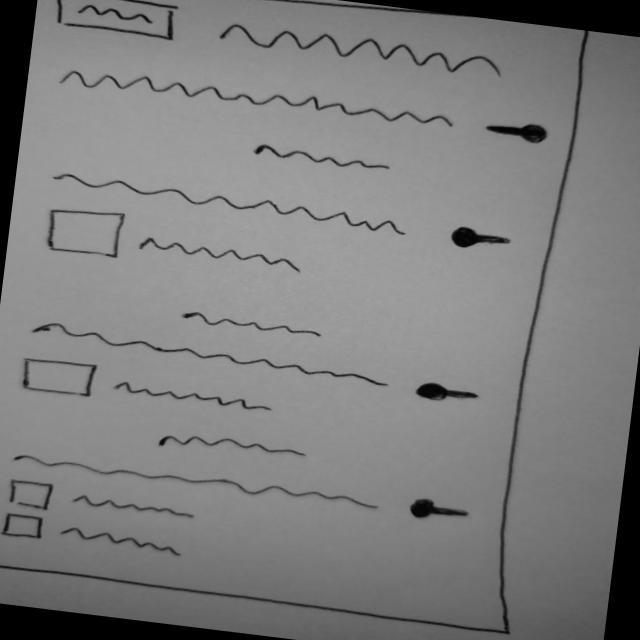checkbox: (42, 201, 313, 284), (21, 354, 280, 425), (3, 477, 202, 531), (1, 509, 196, 563)
input: (39, 1, 190, 48)
text: (56, 63, 461, 137), (32, 315, 401, 395), (55, 166, 416, 242), (9, 448, 386, 515), (216, 16, 517, 88), (245, 139, 407, 181), (153, 427, 313, 469), (175, 306, 332, 346)
toggle: (444, 221, 522, 259), (400, 492, 479, 529), (482, 114, 555, 151), (412, 379, 490, 411)
